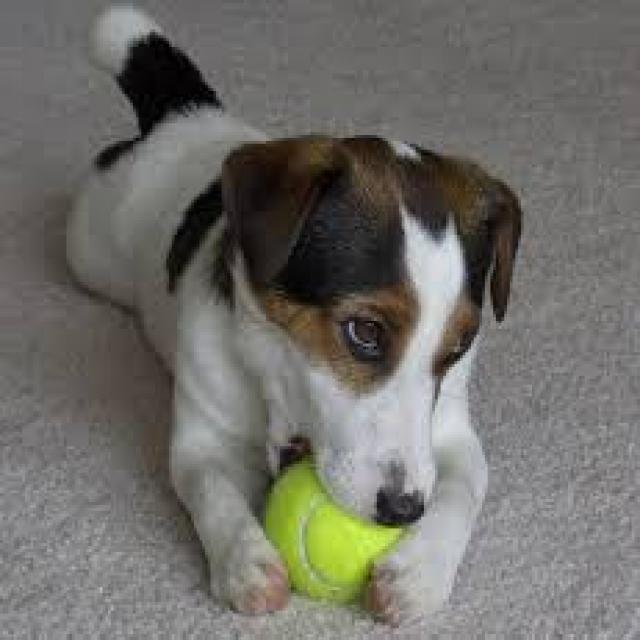Tennis-Ball: (267, 456, 405, 598)
